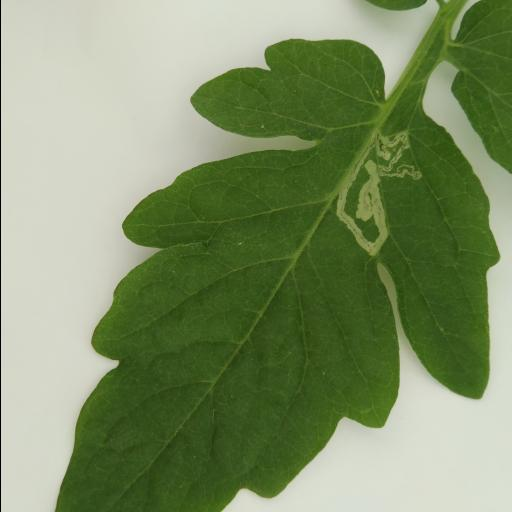Leaf Miner: (54, 33, 500, 512)
